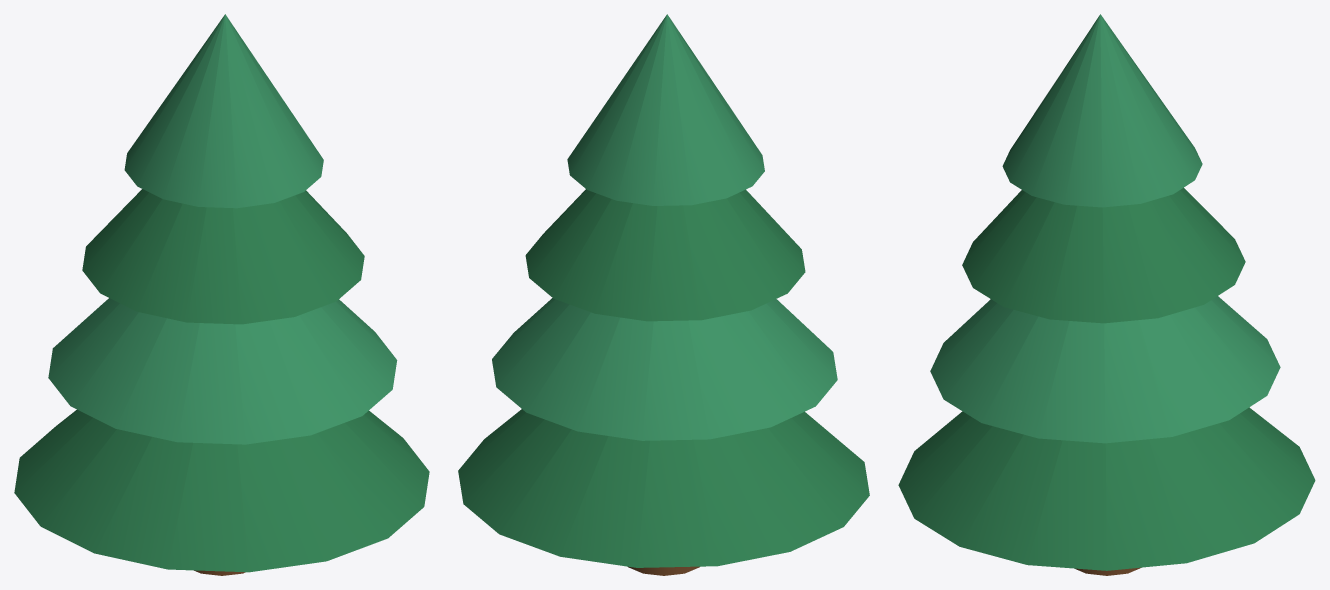
The model's file is tree_pine.glb.
3 renders of one model, left to right at view 1: azimuth 30°, elevation 25°; view 2: azimuth 150°, elevation 25°; view 3: azimuth 270°, elevation 25°, orthographic.
Parts seen in each view (by area): view 1: Leaves; view 2: Leaves; view 3: Leaves.
Part boxes in pixels (box(x1,y1,x2,y2)): Leaves: box(14, 14, 429, 572); Leaves: box(458, 14, 869, 567); Leaves: box(898, 14, 1315, 570).
Bounding box in the file's own units: 0.8316 × 1.2 × 0.8316.
